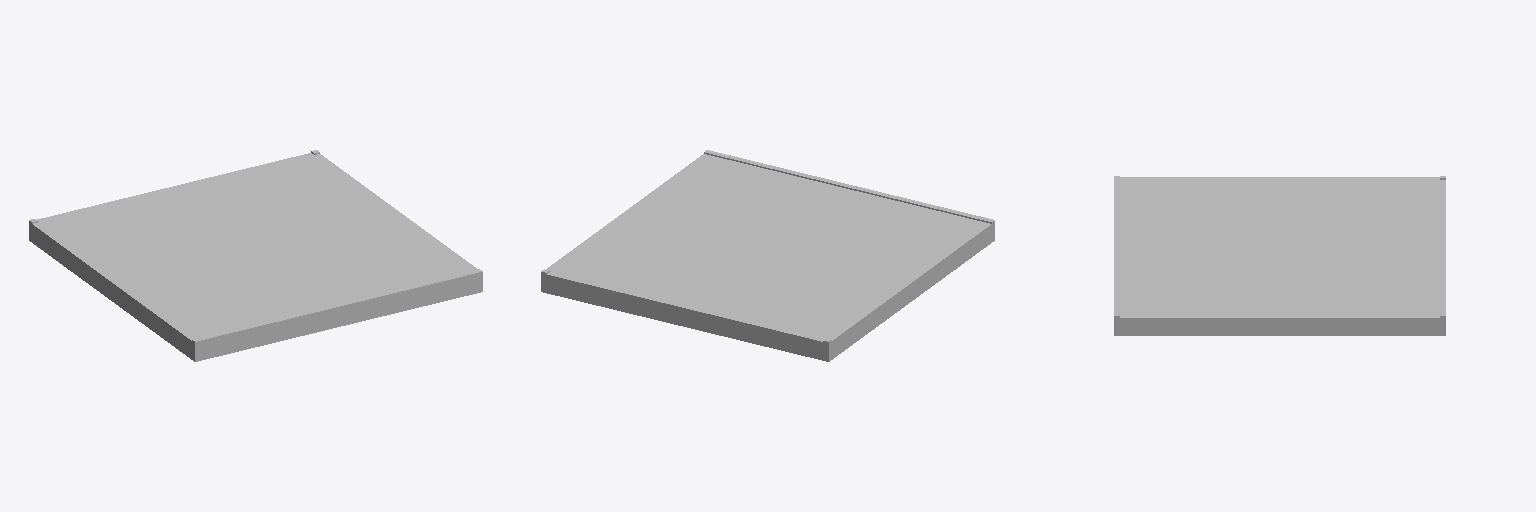
File: trisection 8x8x0.5.obj
3 renders of one model, left to right at view 1: azimuth 30°, elevation 25°; view 2: azimuth 150°, elevation 25°; view 3: azimuth 270°, elevation 25°, orthographic.
Visible parts, largest first — view 1: Cube; view 2: Cube; view 3: Cube.
Boxes of the visible parts, <box> form: Cube: <box>29,150,482,361</box>; Cube: <box>541,150,994,361</box>; Cube: <box>1114,176,1445,335</box>.
Bounding box in the file's own units: 16 × 1.08 × 16.